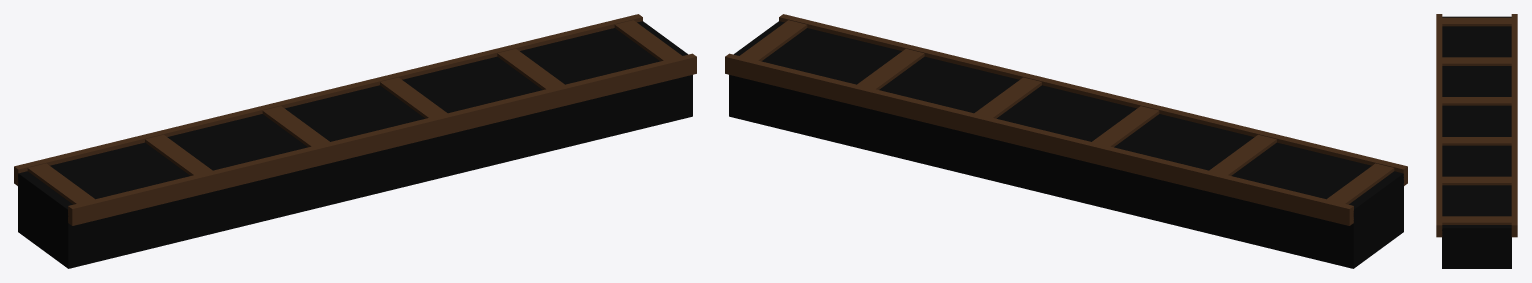
File: terrace-drain-grate.lod1.glb
3 renders of one model, left to right at view 1: azimuth 30°, elevation 25°; view 2: azimuth 150°, elevation 25°; view 3: azimuth 270°, elevation 25°, orthographic. The views are drawn at different scales.
Visible parts, largest first — view 1: terrace_drain_grate_Trim • places palette; view 2: terrace_drain_grate_Trim • places palette; view 3: terrace_drain_grate_Trim • places palette.
Part boxes in pixels (<box>): terrace_drain_grate_Trim • places palette: <box>14,14,696,268</box>; terrace_drain_grate_Trim • places palette: <box>725,14,1407,268</box>; terrace_drain_grate_Trim • places palette: <box>1436,14,1517,268</box>.
Size of the model in its own units: 1 by 0.096 by 0.162.
1 material, 1 textured.
